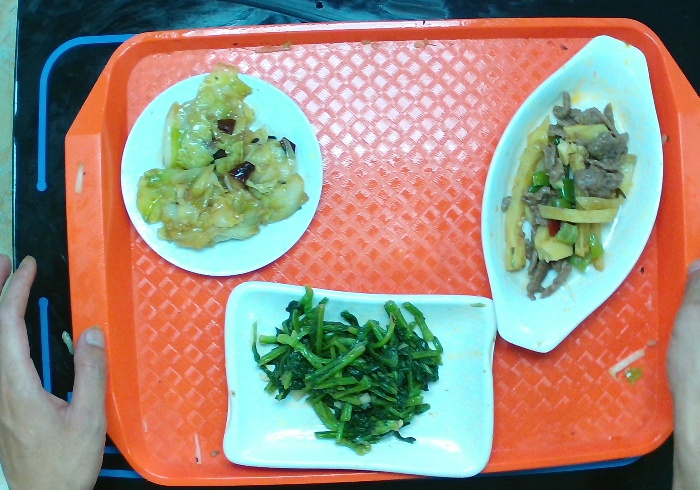RJxy-Si_Fang_Ao_Bian_Wan: (216, 279, 500, 481)
RJxy-Xiao_Yuan_Die: (118, 70, 325, 279)
RJxy-Yu_Pan: (480, 35, 665, 351)
